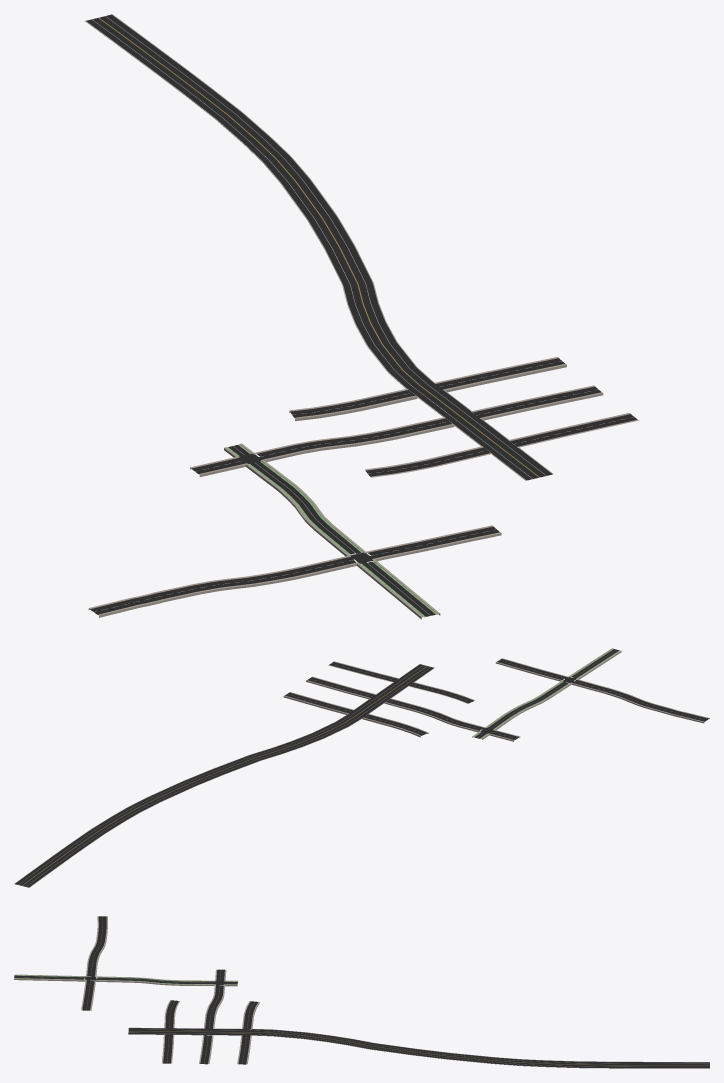
File: roads.glb
The picture shows the model from 3 angles, top to bottom: view 1: azimuth 30°, elevation 25°; view 2: azimuth 150°, elevation 25°; view 3: azimuth 270°, elevation 25°; orthographic projection. The views are drawn at different scales.
Visible parts, largest first — view 1: big_road, small_road.003, small_road, bike_lane_road, small_road.001, small_road.002; view 2: big_road, small_road.003, small_road, bike_lane_road, small_road.001, small_road.002; view 3: big_road, bike_lane_road, small_road.003, small_road, small_road.001, small_road.002.
Part boxes in pixels (x1=…): big_road: x1=85, y1=14, x2=553, y2=480; small_road.003: x1=88, y1=525, x2=501, y2=617; small_road: x1=190, y1=385, x2=603, y2=476; bike_lane_road: x1=224, y1=443, x2=440, y2=619; small_road.001: x1=289, y1=357, x2=566, y2=421; small_road.002: x1=365, y1=413, x2=638, y2=477; big_road: x1=14, y1=664, x2=434, y2=887; small_road.003: x1=495, y1=658, x2=709, y2=723; small_road: x1=306, y1=676, x2=520, y2=741; bike_lane_road: x1=472, y1=648, x2=621, y2=739; small_road.001: x1=283, y1=692, x2=428, y2=737; small_road.002: x1=328, y1=661, x2=474, y2=703; big_road: x1=128, y1=1027, x2=709, y2=1068; bike_lane_road: x1=14, y1=974, x2=237, y2=986; small_road.003: x1=81, y1=916, x2=107, y2=1010; small_road: x1=199, y1=969, x2=226, y2=1064; small_road.001: x1=237, y1=1001, x2=259, y2=1064; small_road.002: x1=162, y1=1000, x2=179, y2=1063.
Size of the model in its own units: 1353 by 6.39 by 2606.
4 materials, 2 textured.
